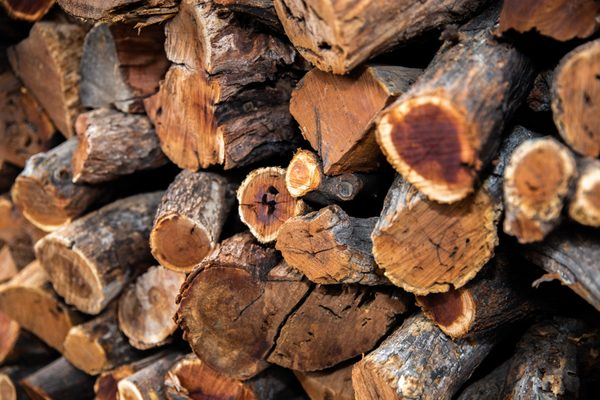curry: (175, 0, 576, 377), (371, 4, 598, 322), (145, 4, 322, 258)
